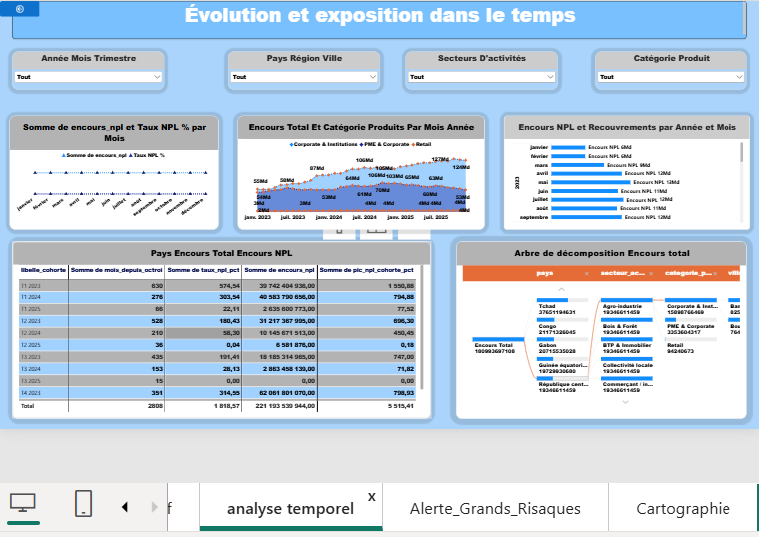

The page's visual inventory and layout, read from the dashboard file:
{"tool":"powerbi","page":{"name":"analyse temporel ","canvas":[1920,1080],"ordinal":1},"visuals":[{"type":"textbox","box":[32,0,1856,96],"z":0},{"type":"slicer","title":"Année Mois Trimestre","fields":{"Values":["public dim_date.date_complet.Variation.Hiérarchie de dates.Année","public dim_date.date_complet.Variation.Hiérarchie de dates.Trimestre","public dim_date.date_complet.Variation.Hiérarchie de dates.Mois"]},"box":[32,128,384,96],"z":1000},{"type":"slicer","title":"Pays Région Ville ","fields":{"Values":["public dim_agences.pays Hiérarchie.pays","public dim_agences.pays Hiérarchie.region","public dim_agences.pays Hiérarchie.ville"]},"box":[576,128,384,96],"z":2000},{"type":"slicer","title":"Catégorie Produit ","fields":{"Values":["public dim_produits.categorie_produit"]},"box":[1504,128,384,96],"z":3000},{"type":"slicer","title":"Secteurs D''activités ","fields":{"Values":["public dim_clients.secteur_activite"]},"box":[1024,128,384,96],"z":4000},{"type":"pivotTable","title":"Pays Encours Total Encours NPL","fields":{"Rows":["public vw_cohortes_octroi.libelle_cohorte"],"Values":["Sum(public vw_cohortes_octroi.mois_depuis_octroi)","Sum(public vw_cohortes_octroi.taux_npl_pct)","Sum(public vw_cohortes_octroi.encours_npl)","Sum(public vw_cohortes_octroi.pic_npl_cohorte_pct)"]},"box":[32,608,1056,448],"z":5000},{"type":"lineChart","fields":{"Category":["public dim_date.date_complet.Variation.Hiérarchie de dates.Mois"],"Y":["Sum(public vw_synthese_mensuelle.encours_npl)","Etat_Porte_feuille.Taux NPL %"]},"box":[24,288,528,288],"z":6000},{"type":"clusteredBarChart","fields":{"Category":["public dim_date.date_complet.Variation.Hiérarchie de dates.Année","public dim_date.date_complet.Variation.Hiérarchie de dates.Mois"],"Y":["Mesures.Encours NPL"]},"box":[1272,288,624,288],"z":7000},{"type":"areaChart","title":"Encours Total Et Catégorie  Produits  Par Mois Année ","fields":{"Category":["public dim_date.date_complet.Variation.Hiérarchie de dates.Année","public dim_date.date_complet.Variation.Hiérarchie de dates.Mois"],"Series":["public dim_produits.categorie_produit"],"Y":["Mesures.Encours Total"]},"box":[600,288,624,288],"z":8000},{"type":"actionButton","box":[0,0,100,40],"z":9000},{"type":"decompositionTreeVisual","title":"Arbre de décomposition Encours total","fields":{"Analyze":["Mesures.Encours Total"],"ExplainBy":["public dim_agences.pays","public dim_clients.secteur_activite","public dim_produits.categorie_produit","public dim_agences.ville"]},"box":[1152,608,736,448],"z":10000}]}

Visuals, with their boxes on the page's 1920x1080 design canvas (x1, y1, x2, y2). These are canvas units, not pixel positions in the 759x537 screenshot, which may show the page scaled, cropped or inside an application window:
textbox: (left=32, top=0, right=1888, bottom=96)
"Année Mois Trimestre" slicer: (left=32, top=128, right=416, bottom=224)
"Pays Région Ville " slicer: (left=576, top=128, right=960, bottom=224)
"Catégorie Produit " slicer: (left=1504, top=128, right=1888, bottom=224)
"Secteurs D''activités " slicer: (left=1024, top=128, right=1408, bottom=224)
"Pays Encours Total Encours NPL" pivotTable: (left=32, top=608, right=1088, bottom=1056)
lineChart - public dim_date.date_complet.Variation.Hiérarchie de dates.Mois x Sum(public vw_synthese_mensuelle.encours_npl): (left=24, top=288, right=552, bottom=576)
clusteredBarChart - public dim_date.date_complet.Variation.Hiérarchie de dates.Année x public dim_date.date_complet.Variation.Hiérarchie de dates.Mois: (left=1272, top=288, right=1896, bottom=576)
"Encours Total Et Catégorie  Produits  Par Mois Année " areaChart: (left=600, top=288, right=1224, bottom=576)
actionButton: (left=0, top=0, right=100, bottom=40)
"Arbre de décomposition Encours total" decompositionTreeVisual: (left=1152, top=608, right=1888, bottom=1056)
